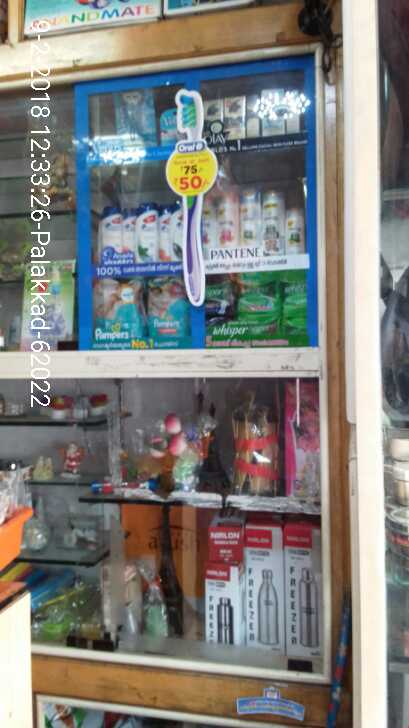venus: (119, 94, 158, 145), (158, 114, 178, 146)
